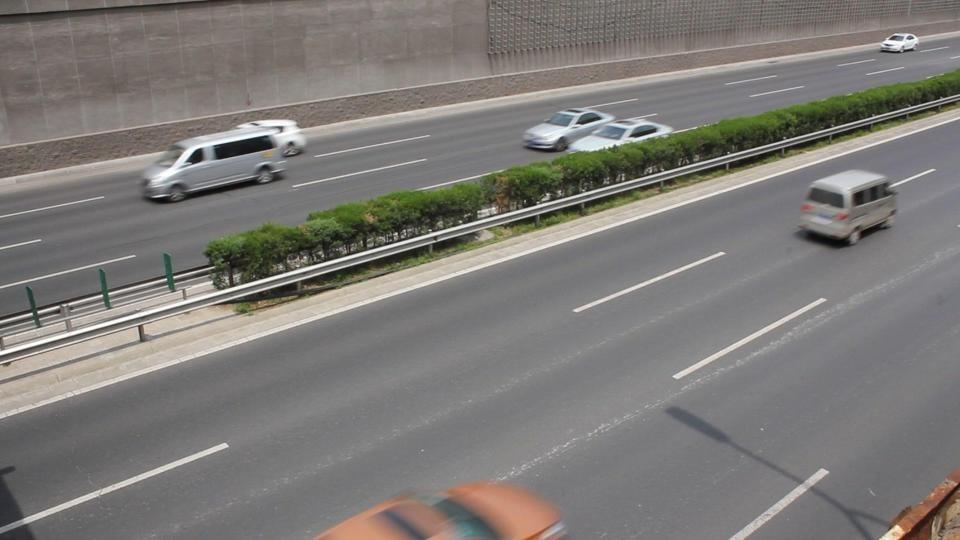car: (312, 478, 573, 537), (140, 126, 288, 203), (799, 169, 900, 245), (522, 107, 614, 152), (573, 117, 675, 152), (237, 118, 307, 157), (880, 33, 919, 53)
